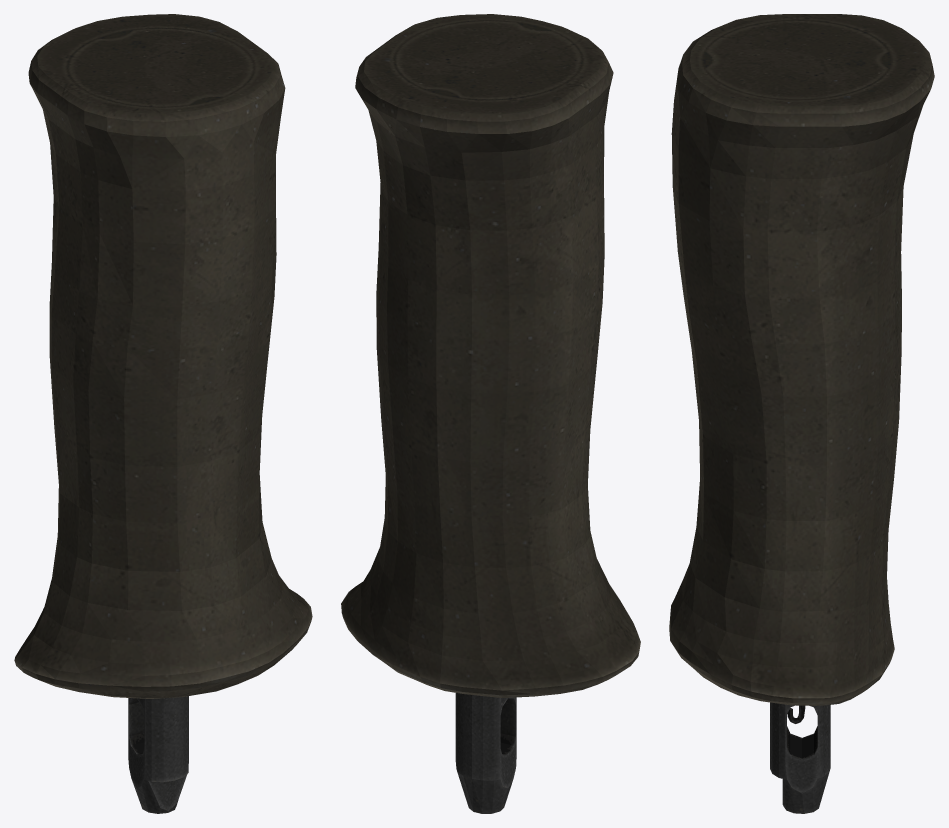
3 views of the same model, side by side, from view 1: azimuth 30°, elevation 25°; view 2: azimuth 150°, elevation 25°; view 3: azimuth 270°, elevation 25° (orthographic).
Visible parts, largest first — view 1: TW_634e61b0767cb15c4601a877_PZ_Import; view 2: TW_634e61b0767cb15c4601a877_PZ_Import; view 3: TW_634e61b0767cb15c4601a877_PZ_Import.
Boxes of the visible parts, x1,y1,x2,y2 form: TW_634e61b0767cb15c4601a877_PZ_Import: (14,14,312,813); TW_634e61b0767cb15c4601a877_PZ_Import: (341,14,640,813); TW_634e61b0767cb15c4601a877_PZ_Import: (669,14,934,813).
Bounding box in the file's own units: 0.0306 × 0.0247 × 0.0767.
Materials: 1 (1 with a texture image).
